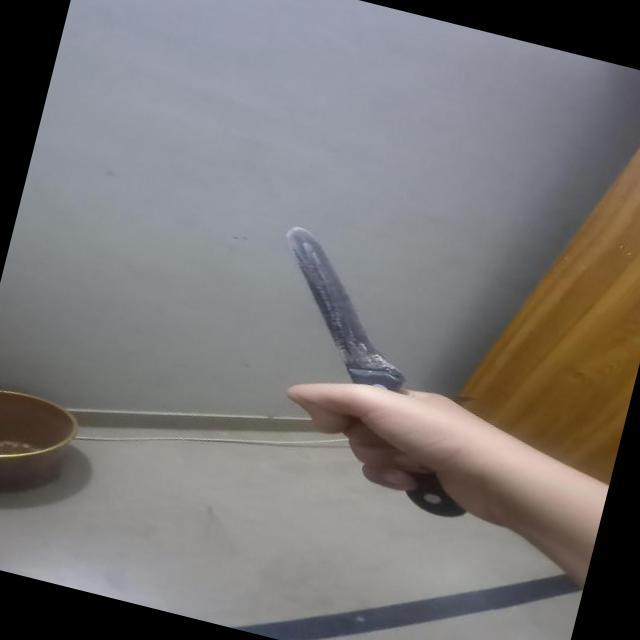Knife: (209, 215, 530, 524)
